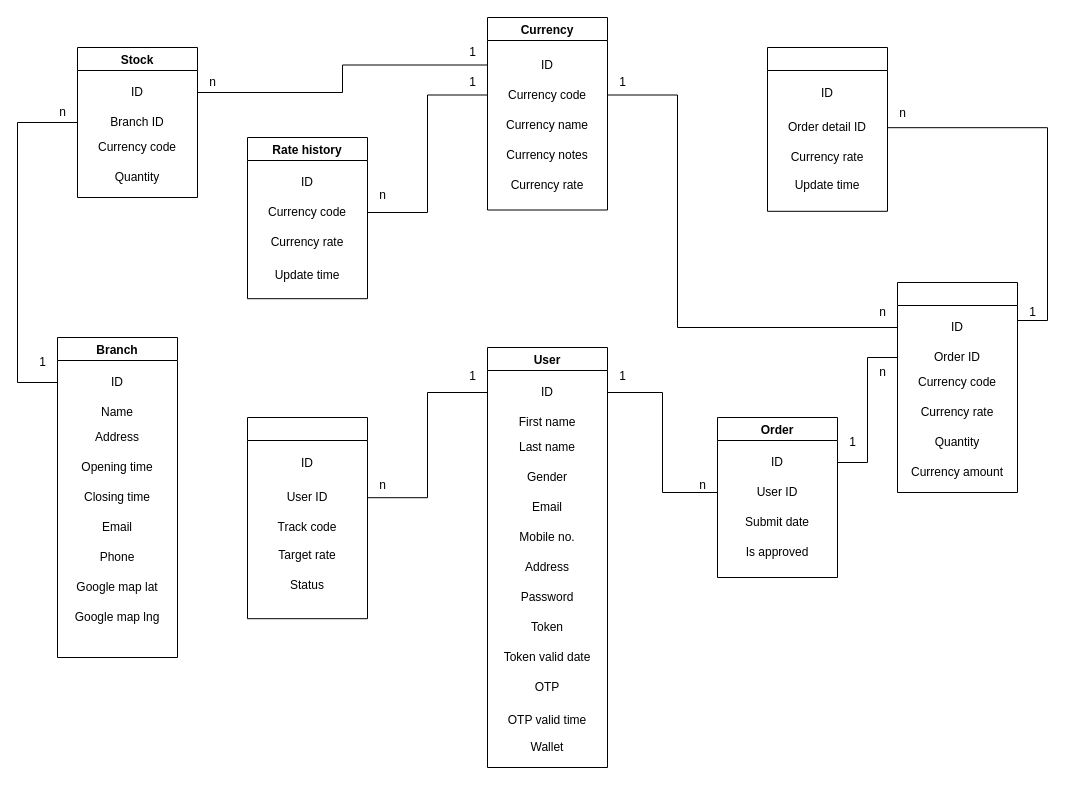
Image size: 1066x785. Some labels were removed from this diagram. The shapes that lost their labels are listed below. From the top down, each one's box as (x1, y1, x2, y2) in pixels, then its label:
(766, 46, 888, 211): Order detail history
(896, 282, 1018, 492): Order detail
(246, 416, 368, 619): Tracker
